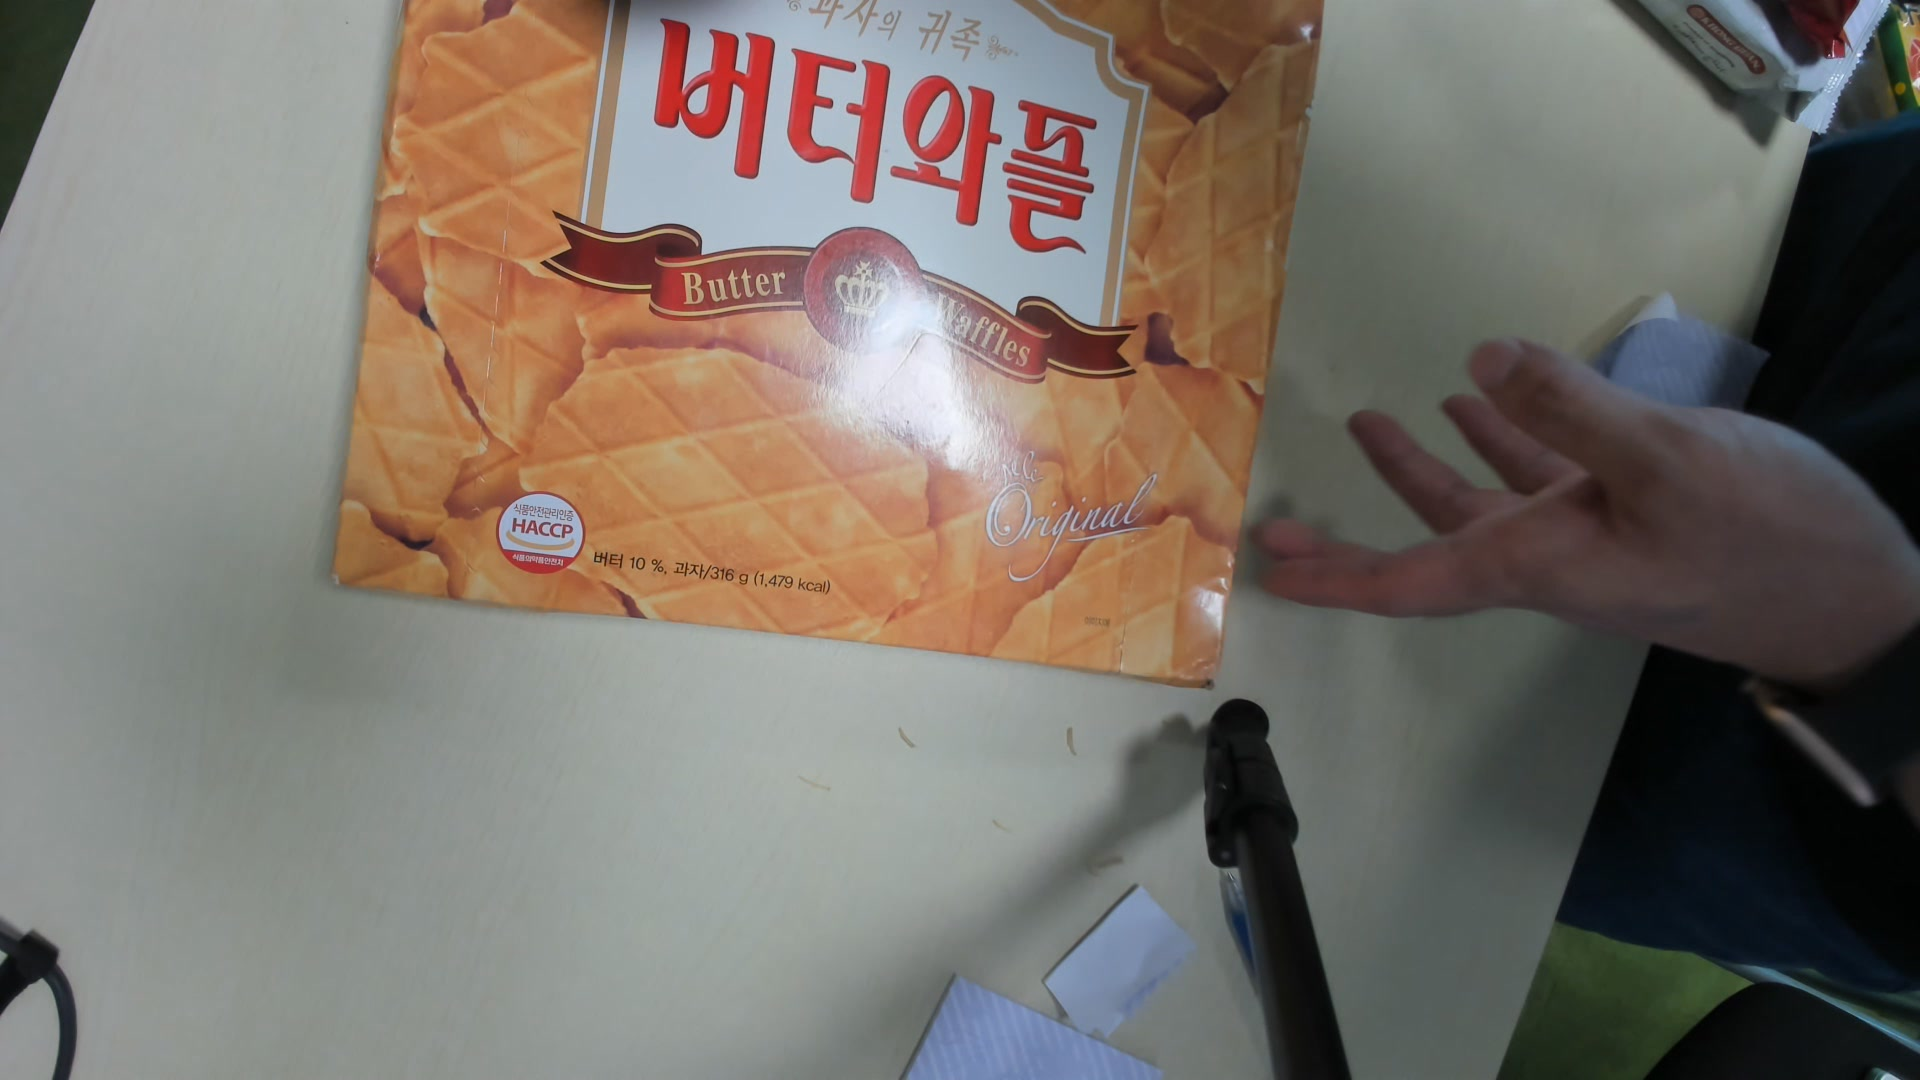BiscuitsCrackersCookies_300-399g_NonHalal_NonHealthy: (331, 8, 1300, 688)
